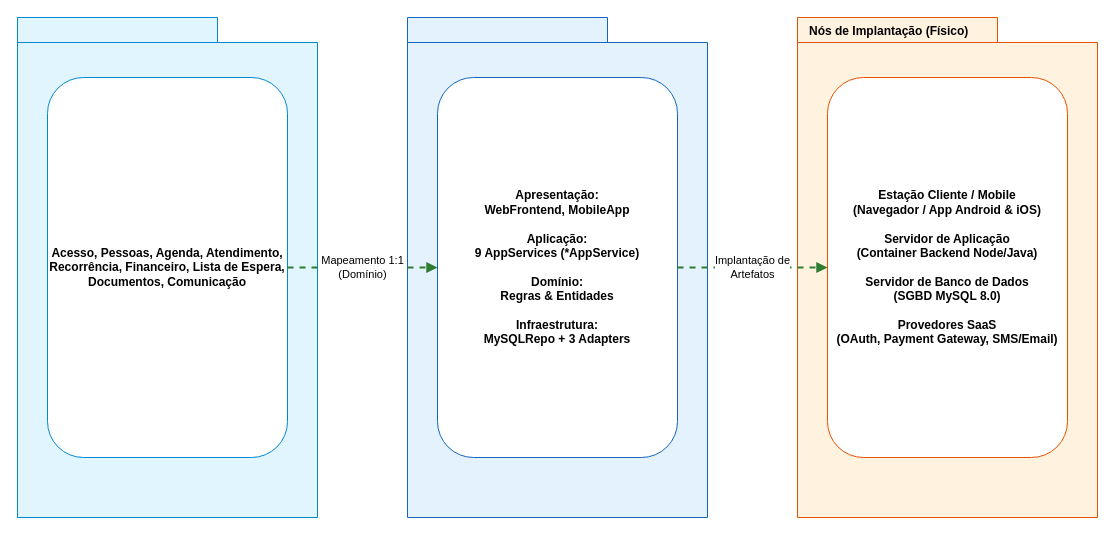
The diagram is 1115 pixels wide and 535 high, and some of its shapes have lost their labels. Each missing label, with the box of its shape:
Componentes (Camadas): (406, 16, 708, 518)
Pacotes de Domínio (Lógico): (16, 16, 318, 518)
